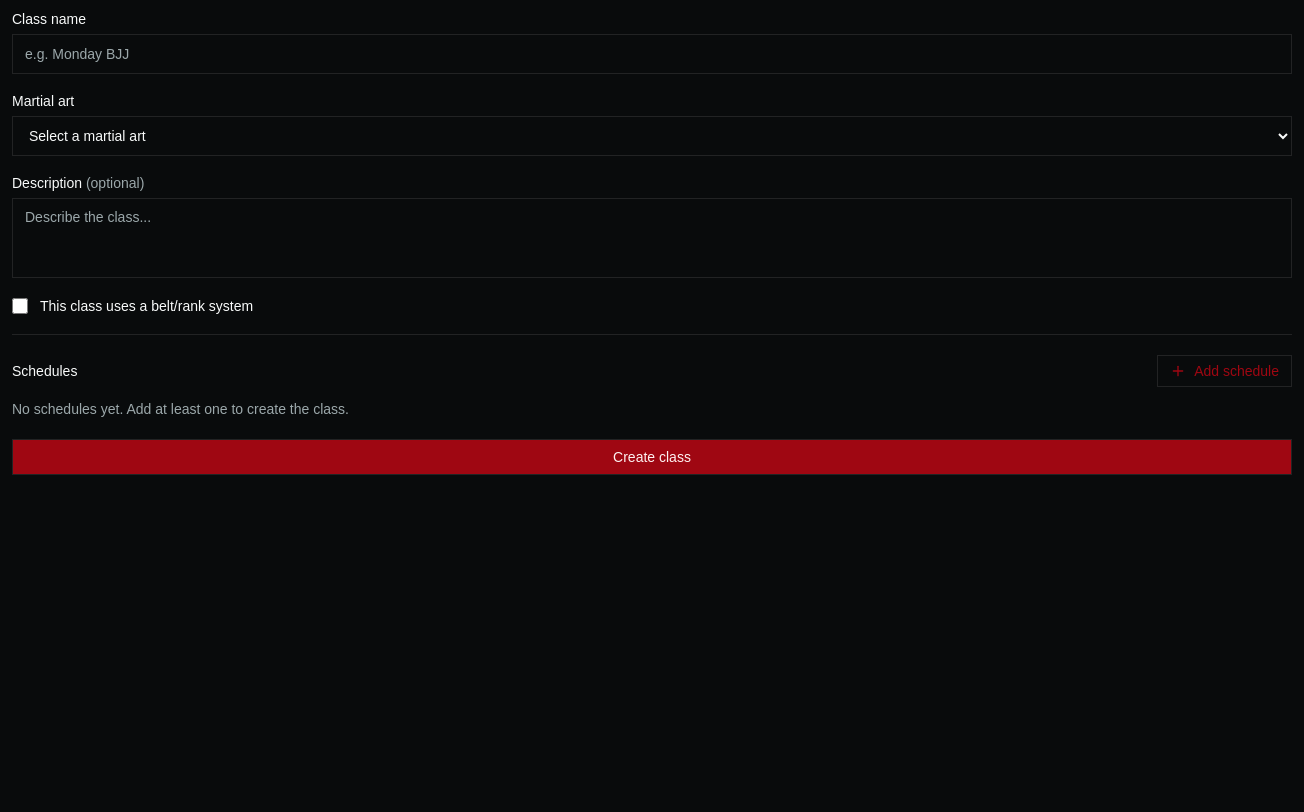
Test case: ClassForm — schedule field array › clicking '+ Add schedule' appends a new schedule row
Click the button "Add schedule" at (1225, 371), box x1=1157 y1=355 x2=1292 y2=387
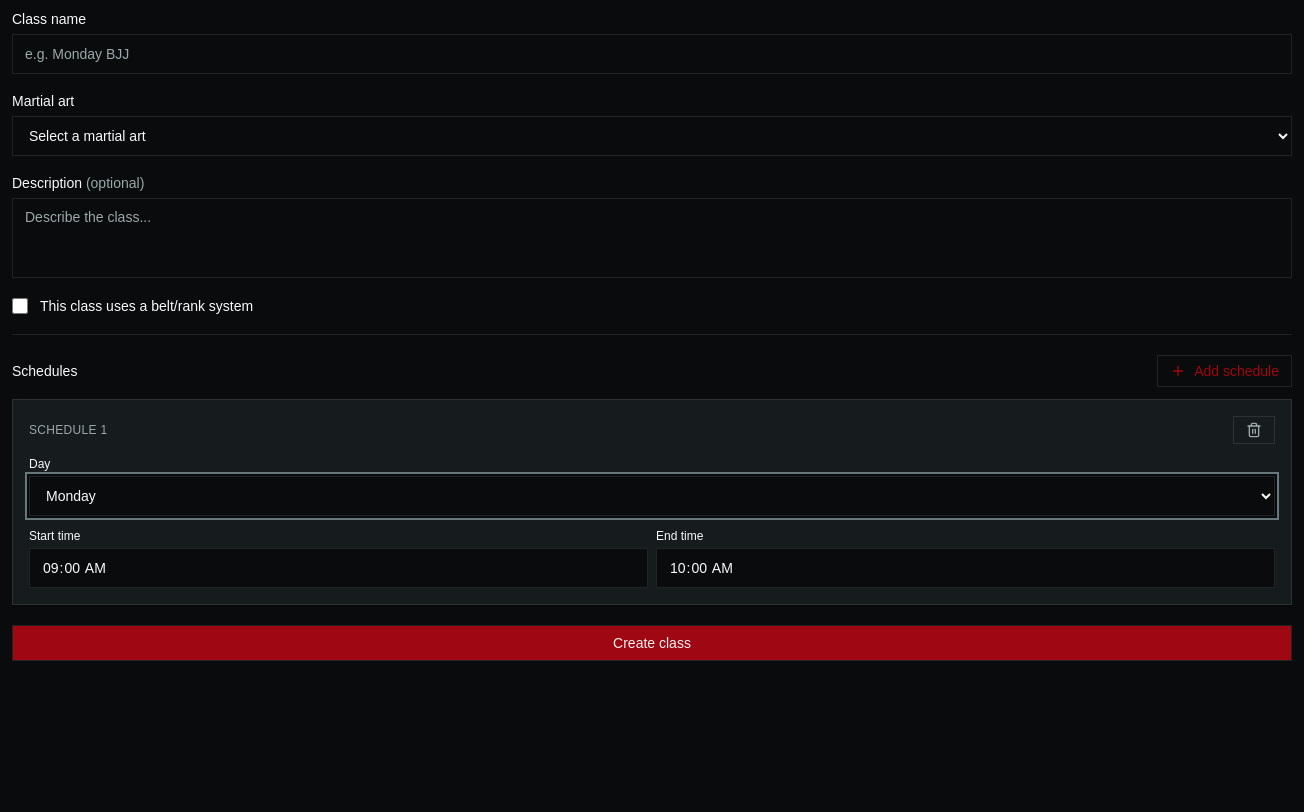
Check: the text "Schedule 1" is shown, box x1=29 y1=422 x2=107 y2=438
